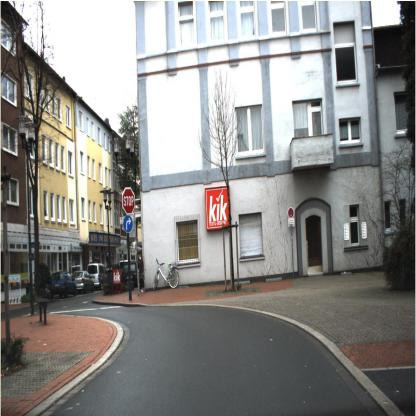mandatory: (124, 218, 134, 234)
other: (119, 185, 140, 214)
